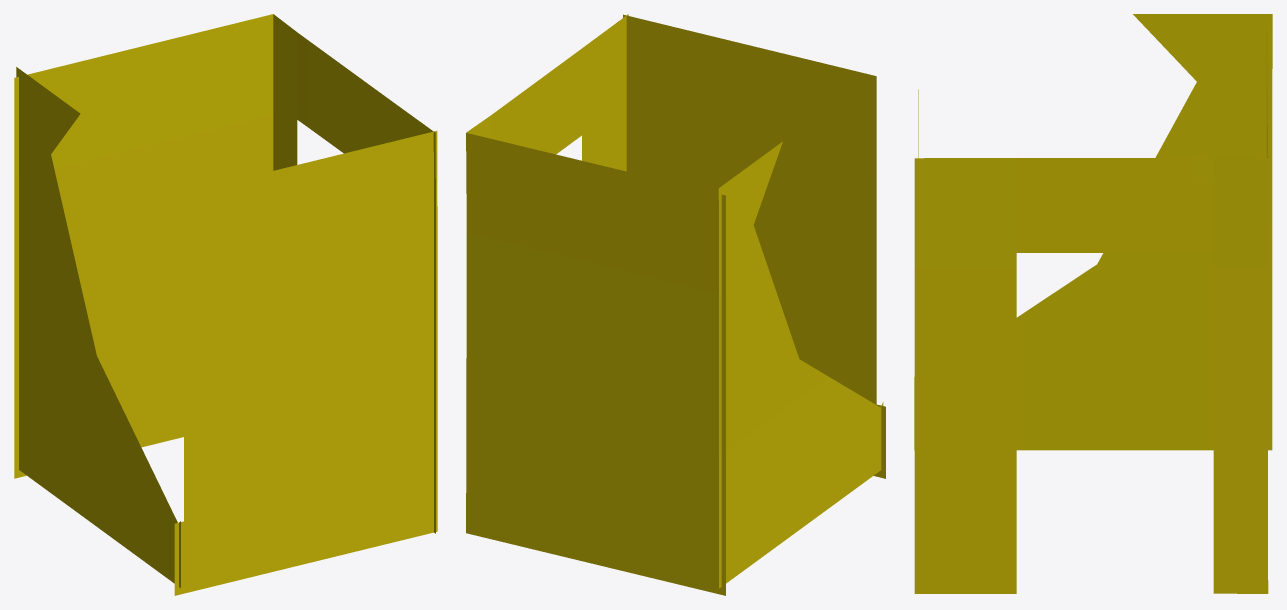
Rendered from BH04B_WP_02_Break.fbx.
3 renders of one model, left to right at view 1: azimuth 30°, elevation 25°; view 2: azimuth 150°, elevation 25°; view 3: azimuth 270°, elevation 25°, orthographic. The views are drawn at different scales.
Visible parts, largest first — view 1: BH04B_WP_02_Break; view 2: BH04B_WP_02_Break; view 3: BH04B_WP_02_Break.
Part boxes in pixels (x1,y1,x2,y2): BH04B_WP_02_Break: (14, 14, 437, 595); BH04B_WP_02_Break: (466, 14, 885, 595); BH04B_WP_02_Break: (914, 14, 1272, 593).
Bounding box in the file's own units: 206 × 306 × 224.
